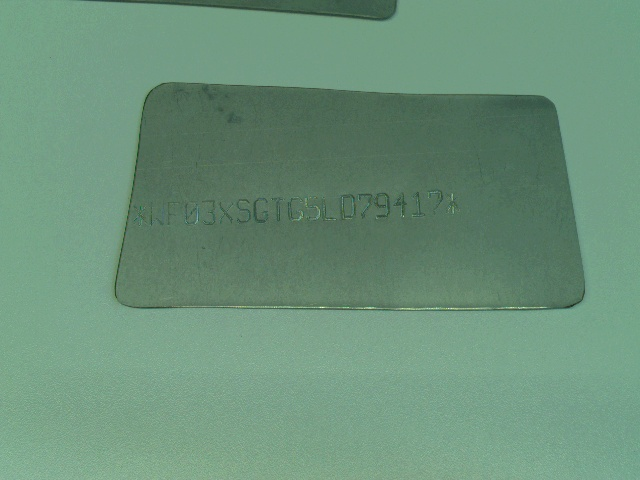0: (181, 200, 201, 227)
1: (410, 189, 426, 221)
3: (201, 198, 218, 227)
4: (392, 191, 408, 219)
5: (304, 194, 321, 221)
7: (425, 188, 444, 219), (358, 190, 372, 220)
9: (374, 191, 391, 218)
d: (338, 192, 358, 221)
f: (166, 200, 180, 227)
g: (253, 195, 270, 224), (287, 195, 304, 222)
l: (319, 194, 337, 223)
s: (235, 197, 252, 225)
t: (269, 195, 287, 223)
w: (148, 200, 166, 227)
x: (218, 199, 236, 226)
